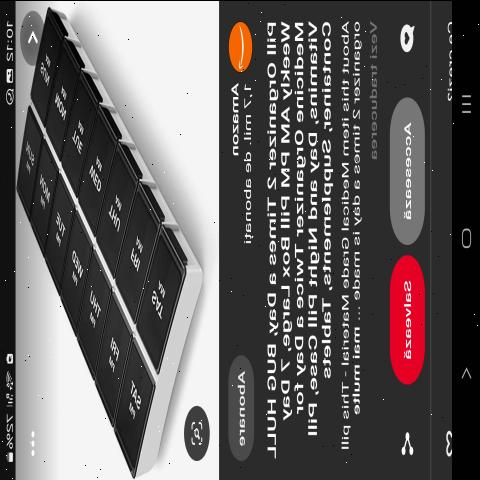PillBox: (18, 15, 208, 480)
